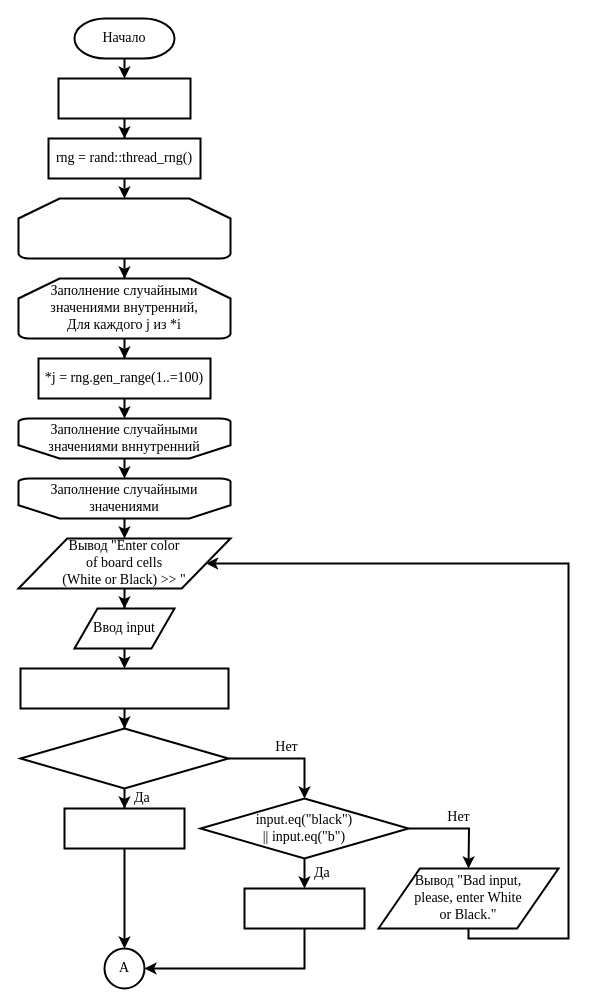
The diagram is 594 pixels wide and 1006 high, and some of its shapes have lost their labels. Each missing label, with the centre of its shape:
color = Color::Black: point 304,908
color = Color::White: point 124,828
input = input.trim().to_lowercase(): point 124,688
input.eq("white") || input.eq("w"): point 124,758
matrix = [ [ 0u8 ; 8 ] ; 8 ]: point 124,98
Заполнение случайными значениями, Для каждого i из matrix: point 124,228
